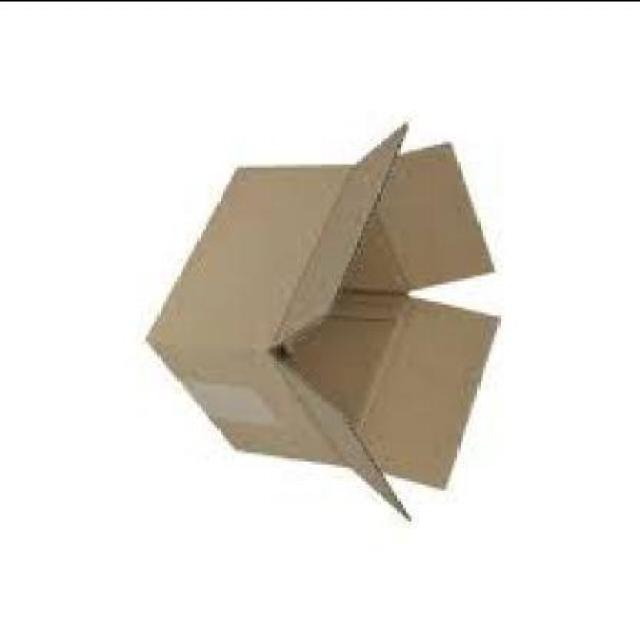box: (143, 126, 503, 523)
